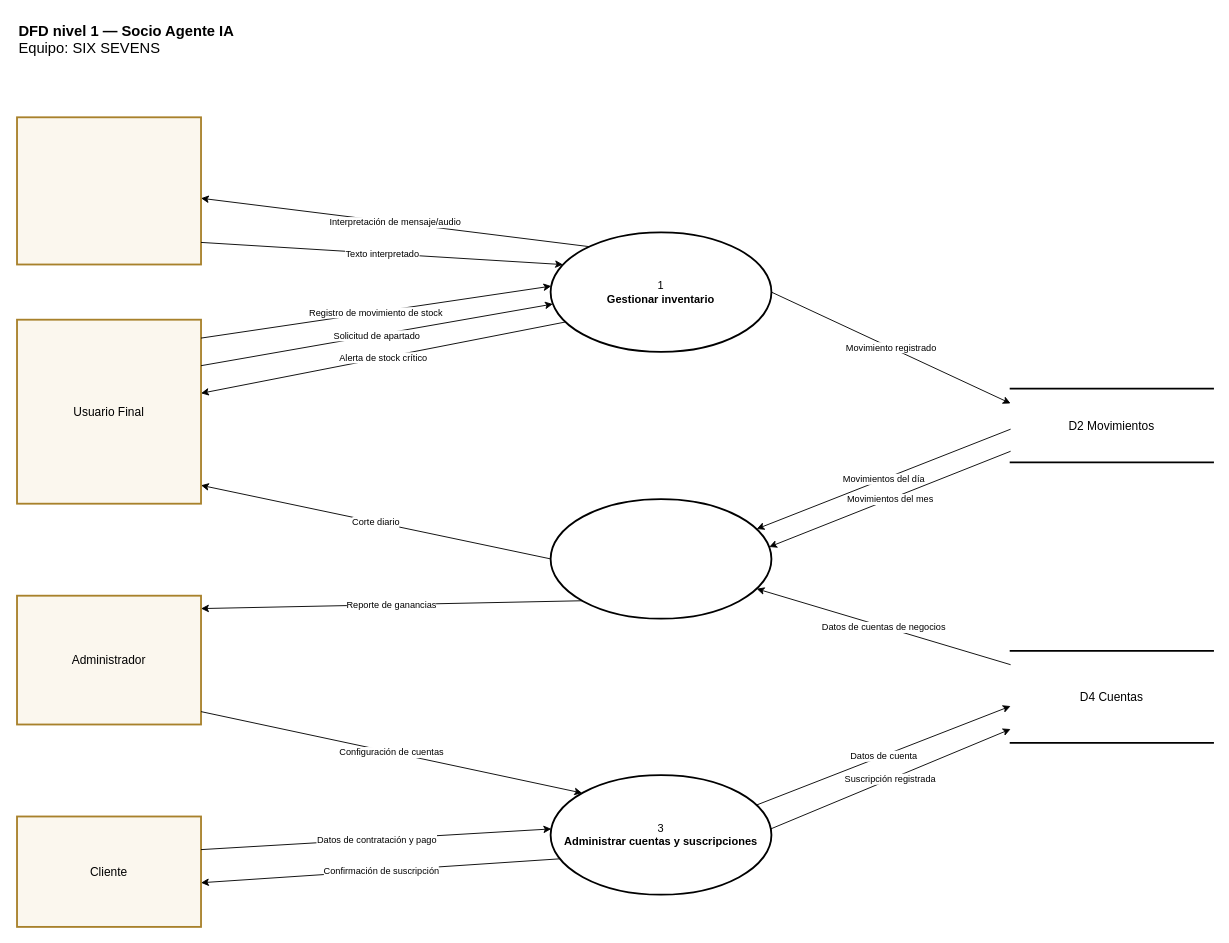
Some shapes in this 1229 by 943 pixel diagram are drawn without their labels. The centre of each missing label's shape, as x and y in pixels:
"2 Generar reportes de ganancias" goes at [660,558].
"Servicio de IA (API externa)" goes at [108,190].
